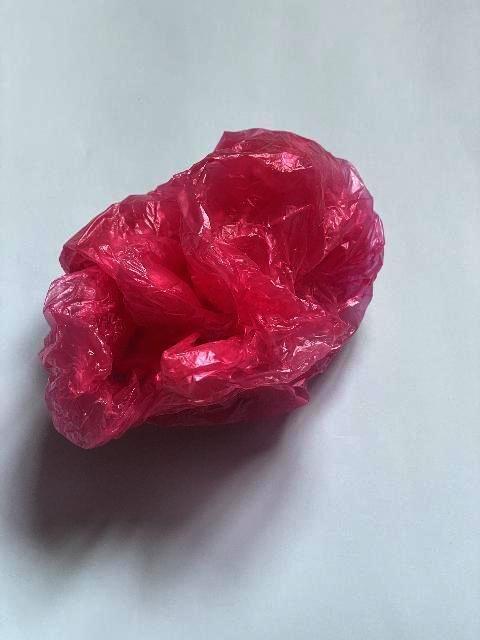plasticbag: (38, 127, 386, 453)
